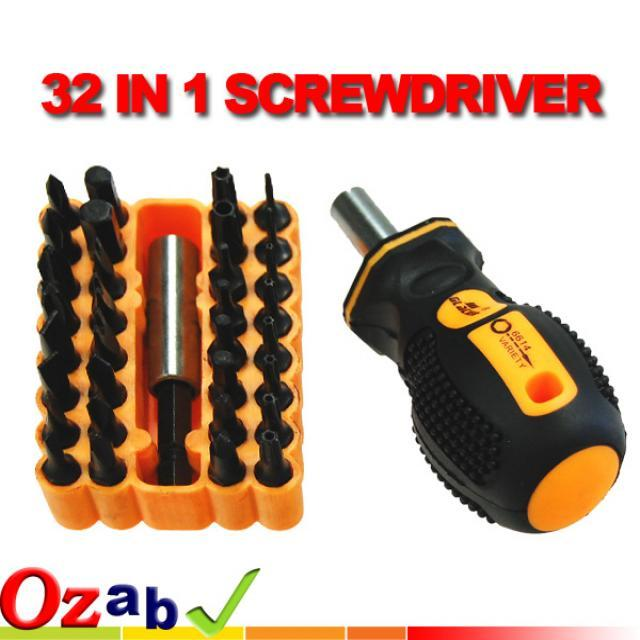screwdriver: (324, 189, 630, 550)
